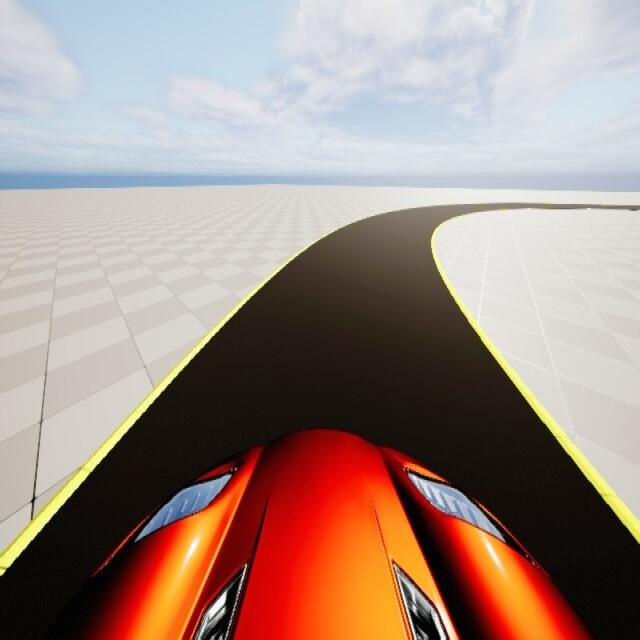lane: (0, 205, 639, 639)
